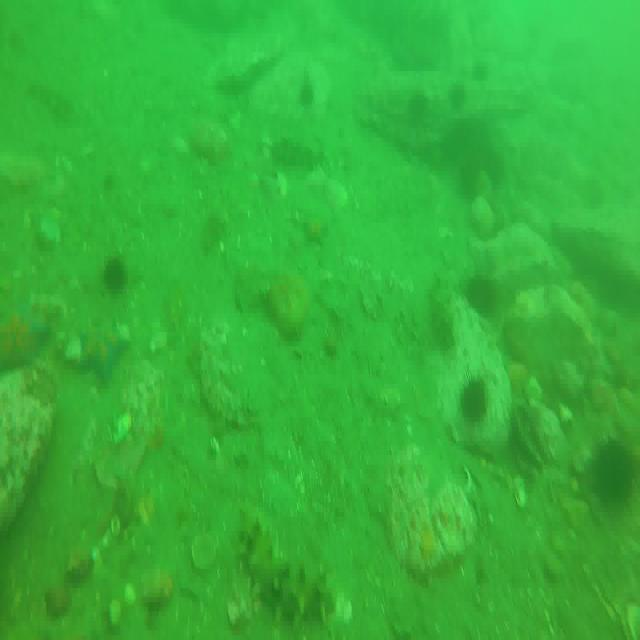echinus: (590, 434, 636, 510), (466, 274, 498, 319), (463, 376, 488, 422), (105, 255, 126, 297), (450, 78, 472, 113), (294, 79, 318, 109), (412, 89, 429, 117)
holothurian: (237, 514, 335, 621), (273, 130, 327, 174), (32, 80, 74, 123)
starfish: (0, 311, 55, 373), (78, 324, 130, 384), (304, 210, 329, 251)
